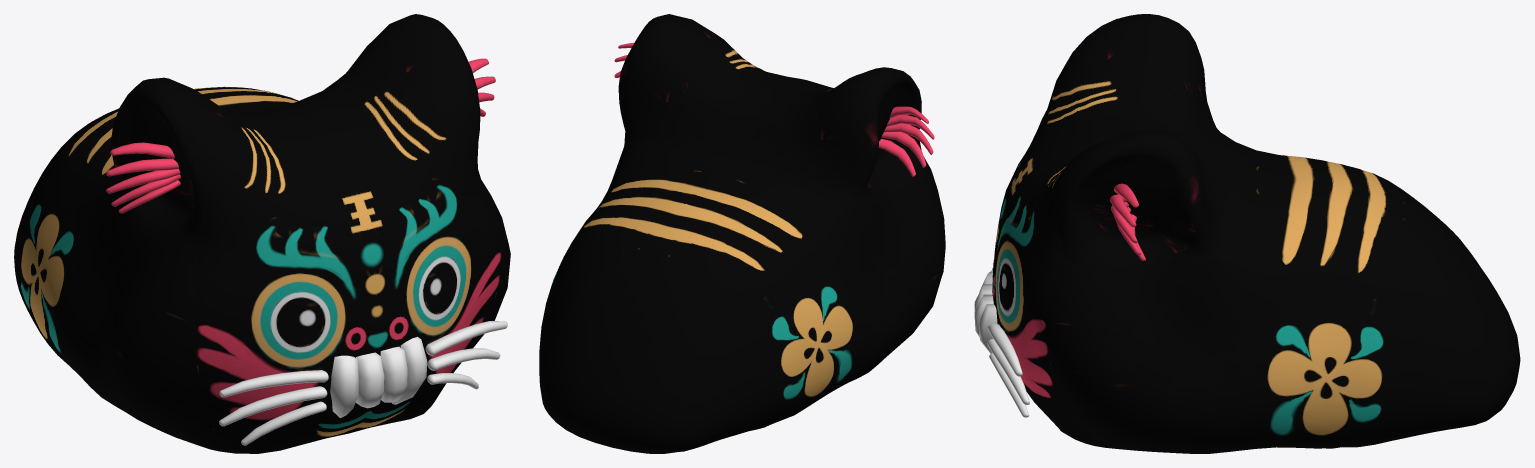
Rendered from tiger-hat2.glb.
The picture shows the model from 3 angles, left to right: view 1: azimuth 30°, elevation 25°; view 2: azimuth 150°, elevation 25°; view 3: azimuth 270°, elevation 25°; orthographic projection. The views are drawn at different scales.
Visible parts, largest first — view 1: hat; view 2: hat; view 3: hat.
Boxes of the visible parts, <box> form: hat: <box>14,14,510,453</box>; hat: <box>539,14,945,453</box>; hat: <box>974,14,1520,453</box>.
Size of the model in its own units: 0.2259 by 0.1971 by 0.2998.
Materials: 1 (1 with a texture image).
